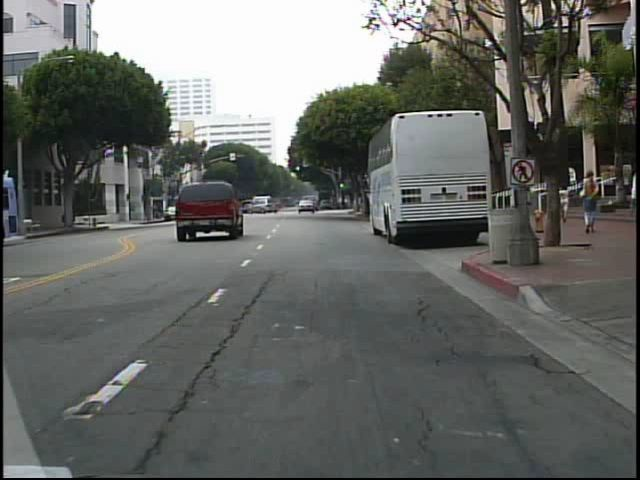person: (577, 169, 604, 238)
